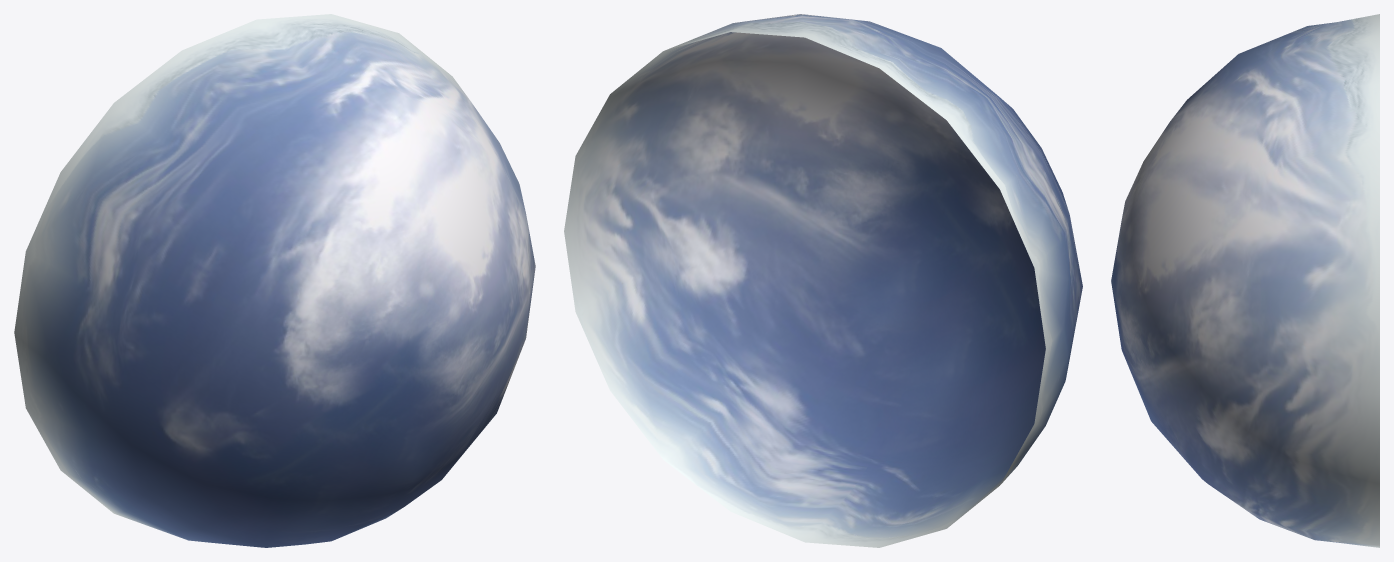
The model's file is skybox.fbx.
3 renders of one model, left to right at view 1: azimuth 30°, elevation 25°; view 2: azimuth 150°, elevation 25°; view 3: azimuth 270°, elevation 25°, orthographic. The views are drawn at different scales.
Parts seen in each view (by area): view 1: Sphere_010; view 2: Sphere_010; view 3: Sphere_010.
Boxes of the visible parts, x1=… form: Sphere_010: x1=14, y1=14, x2=535, y2=547; Sphere_010: x1=564, y1=14, x2=1082, y2=547; Sphere_010: x1=1111, y1=14, x2=1379, y2=547.
Bounding box in the file's own units: 761 × 762 × 380.
1 material, 1 textured.
